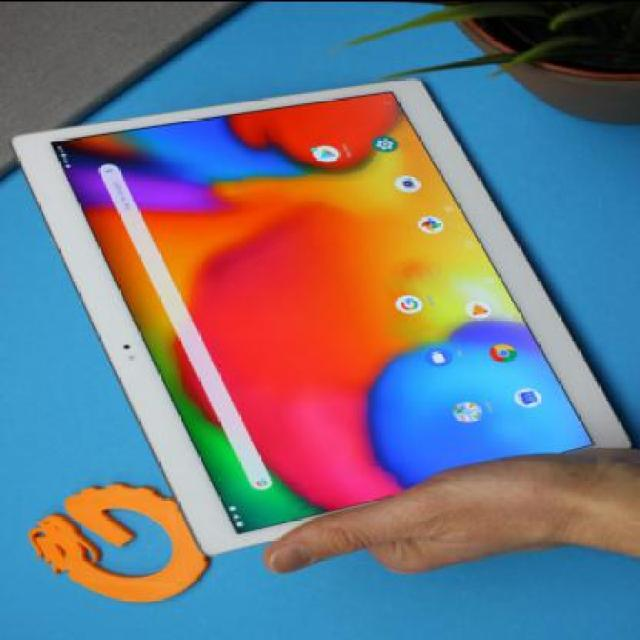tablet: (0, 61, 630, 580)
